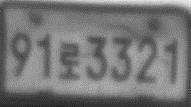1: (36, 33, 52, 81), (164, 37, 180, 85)
2: (135, 37, 161, 85)
3: (84, 35, 108, 81), (110, 36, 132, 83)
9: (9, 32, 33, 79)
로: (58, 40, 81, 81)
